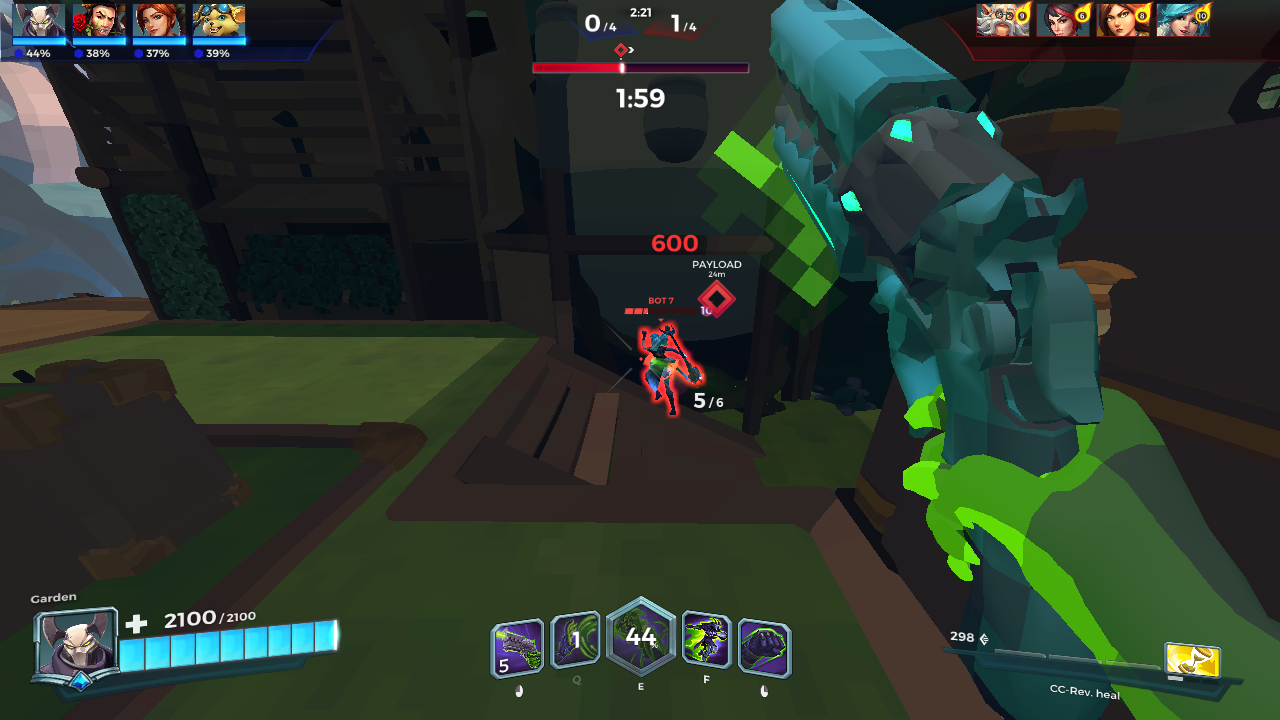model: (628, 319, 704, 422)
